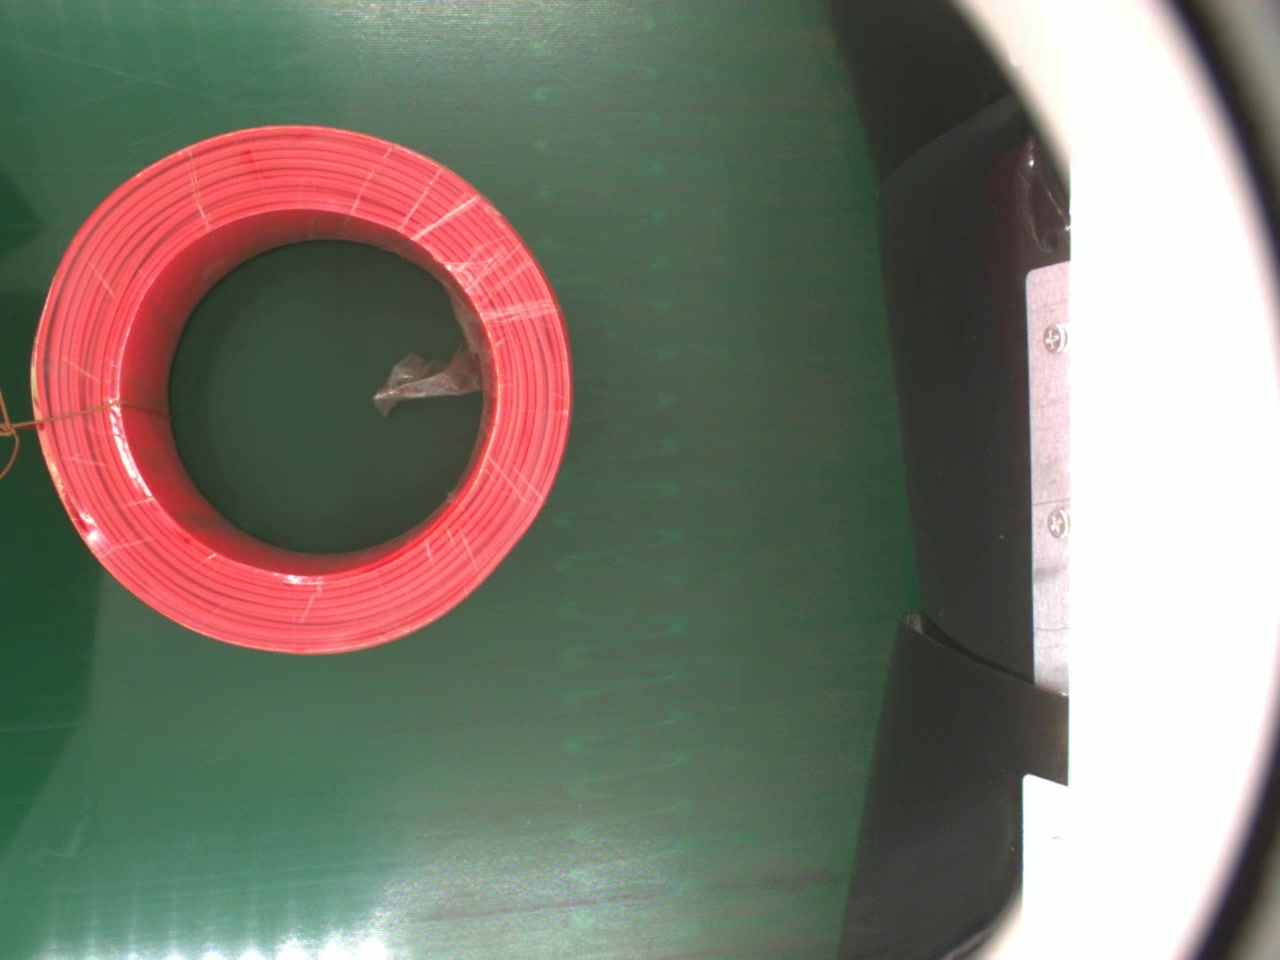red: (28, 123, 577, 664)
